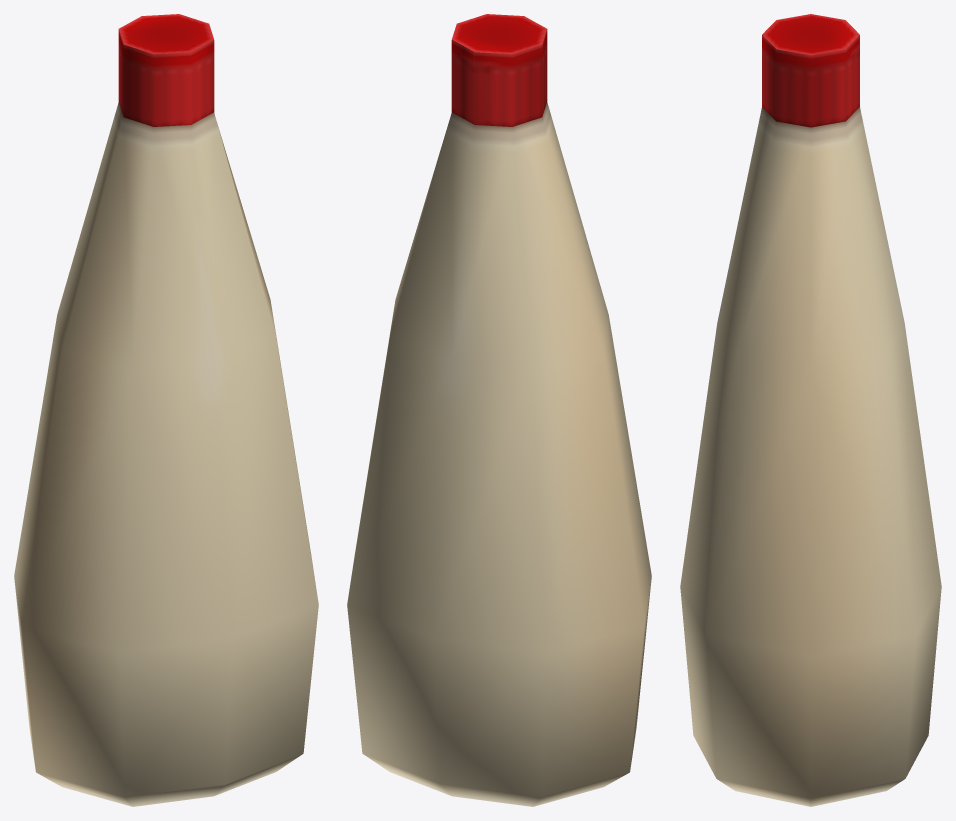
Rendered from jsf_Mayonnaise_03.fbx.
3 views of the same model, side by side, from view 1: azimuth 30°, elevation 25°; view 2: azimuth 150°, elevation 25°; view 3: azimuth 270°, elevation 25° (orthographic).
Visible parts, largest first — view 1: jsf_Mayonnaise_03; view 2: jsf_Mayonnaise_03; view 3: jsf_Mayonnaise_03.
Boxes of the visible parts, bbox=[...] form: jsf_Mayonnaise_03: bbox=[14, 14, 318, 806]; jsf_Mayonnaise_03: bbox=[347, 14, 651, 806]; jsf_Mayonnaise_03: bbox=[680, 14, 941, 806].
Size of the model in its own units: 9.52 by 22.85 by 7.5.
